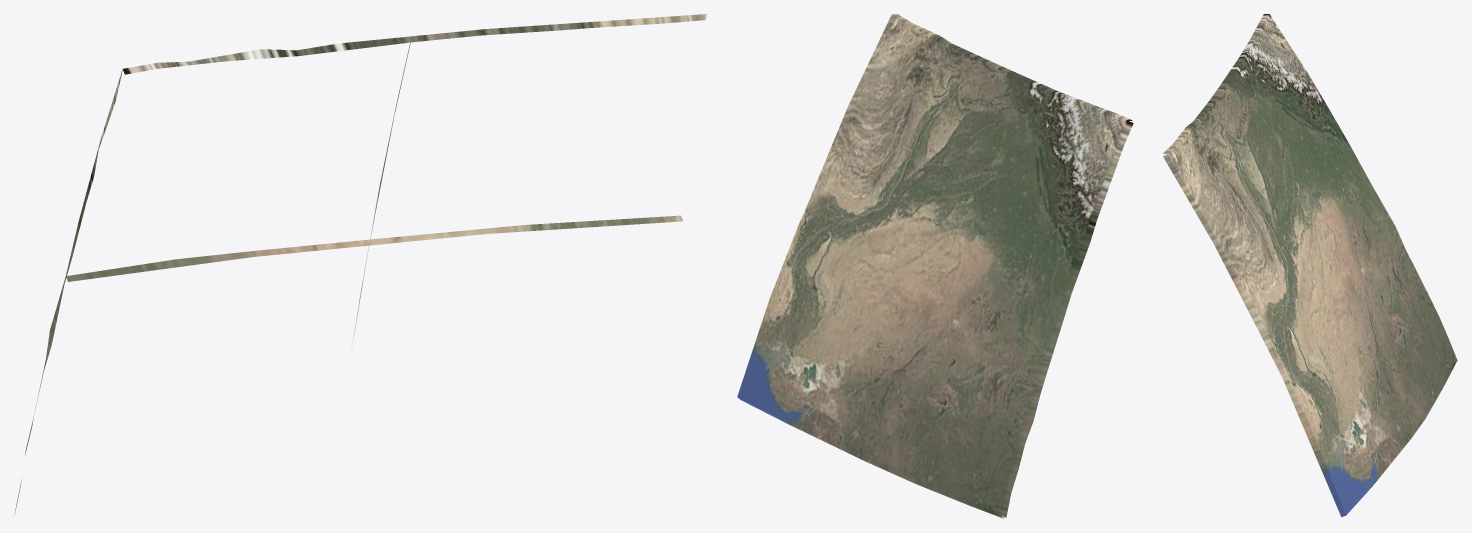
3 views of the same model, side by side, from view 1: azimuth 30°, elevation 25°; view 2: azimuth 150°, elevation 25°; view 3: azimuth 270°, elevation 25° (orthographic). The views are drawn at different scales.
Size of the model in its own units: 1234902 by 1122094 by 894184.
1 material, 1 textured.
